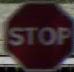Stop: (2, 3, 71, 70)
